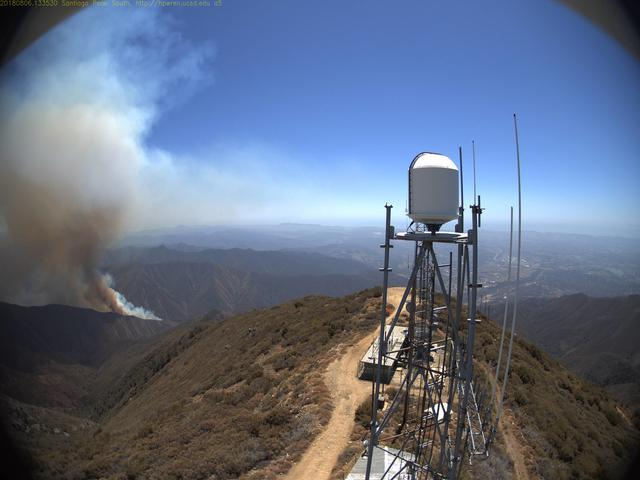smoke: (3, 63, 175, 323)
